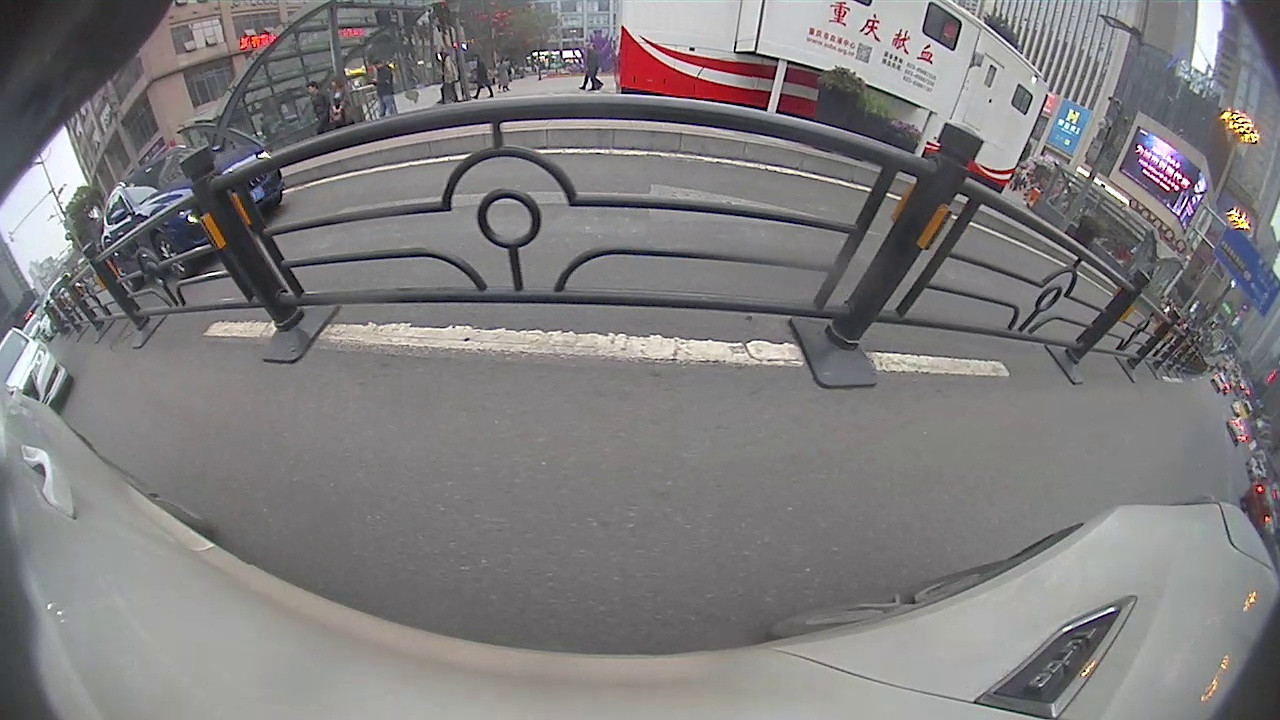car: (99, 139, 284, 292), (1, 326, 73, 419)
front: (151, 234, 188, 279)
